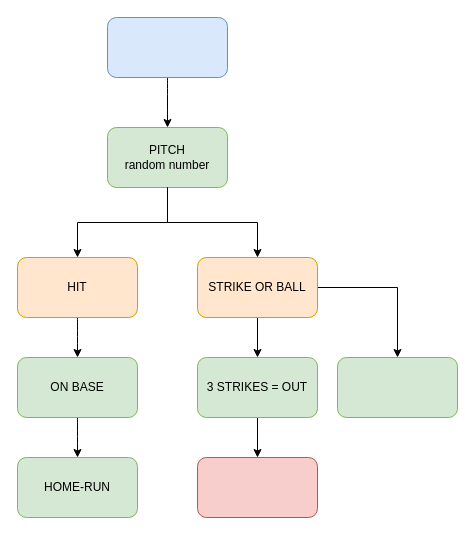
Image size: 475x535. Some labels were removed from this diagram. Each missing label, with the centre of its shape:
"3 OUTS = GAME OVER" goes at pixel 257 487.
"4 BALLS = WALK" goes at pixel 397 387.
"SWING player's choice" goes at pixel 167 47.
